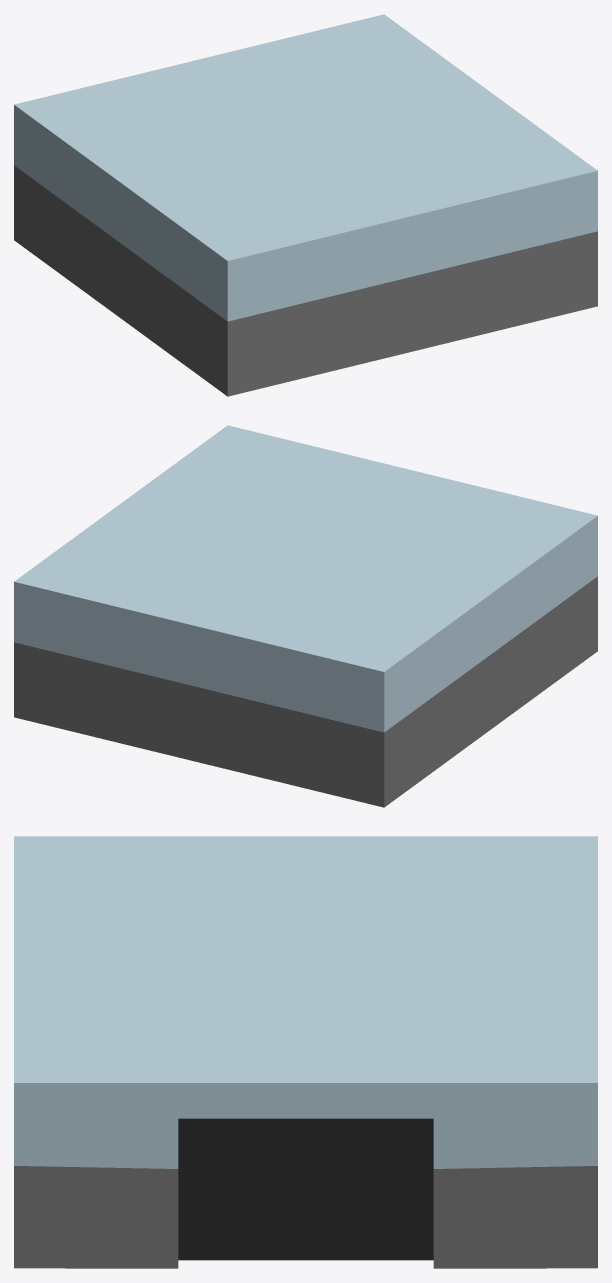
The model's file is SkyScraper3_Bottom_01.fbx.
3 views of the same model, one above another, from view 1: azimuth 30°, elevation 25°; view 2: azimuth 150°, elevation 25°; view 3: azimuth 270°, elevation 25° (orthographic). The views are drawn at different scales.
Parts seen in each view (by area): view 1: SkyScraper3_Bottom_01; view 2: SkyScraper3_Bottom_01; view 3: SkyScraper3_Bottom_01.
Part boxes in pixels (x1=…): SkyScraper3_Bottom_01: x1=14, y1=14, x2=597, y2=396; SkyScraper3_Bottom_01: x1=14, y1=425, x2=597, y2=807; SkyScraper3_Bottom_01: x1=14, y1=836, x2=597, y2=1268.
Size of the model in its own units: 96 by 33.65 by 96.
